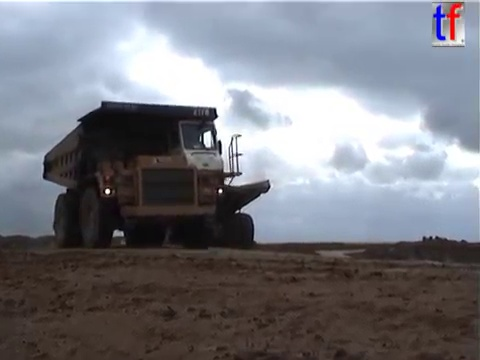truck: (39, 97, 246, 251), (136, 168, 274, 253)
